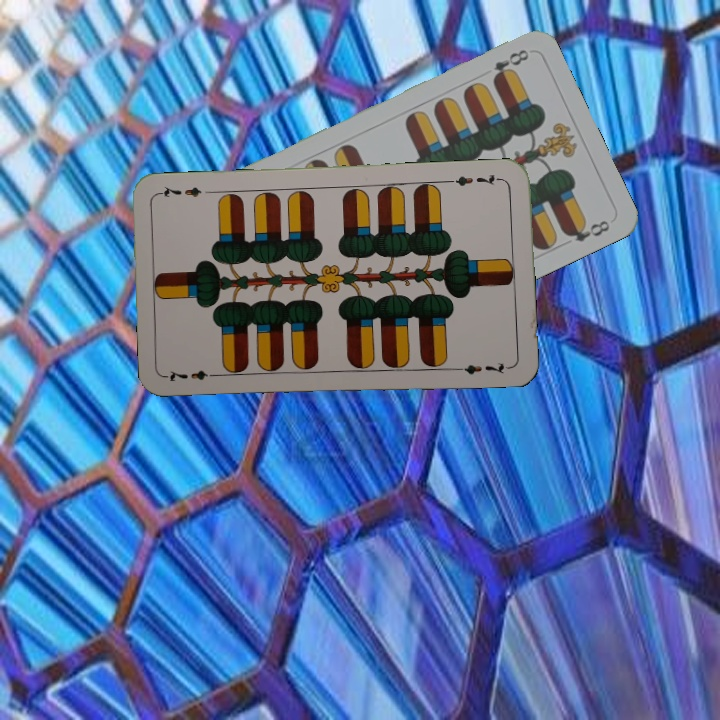E7: (445, 170, 505, 188), (163, 366, 222, 384)
E8: (488, 45, 531, 85)
